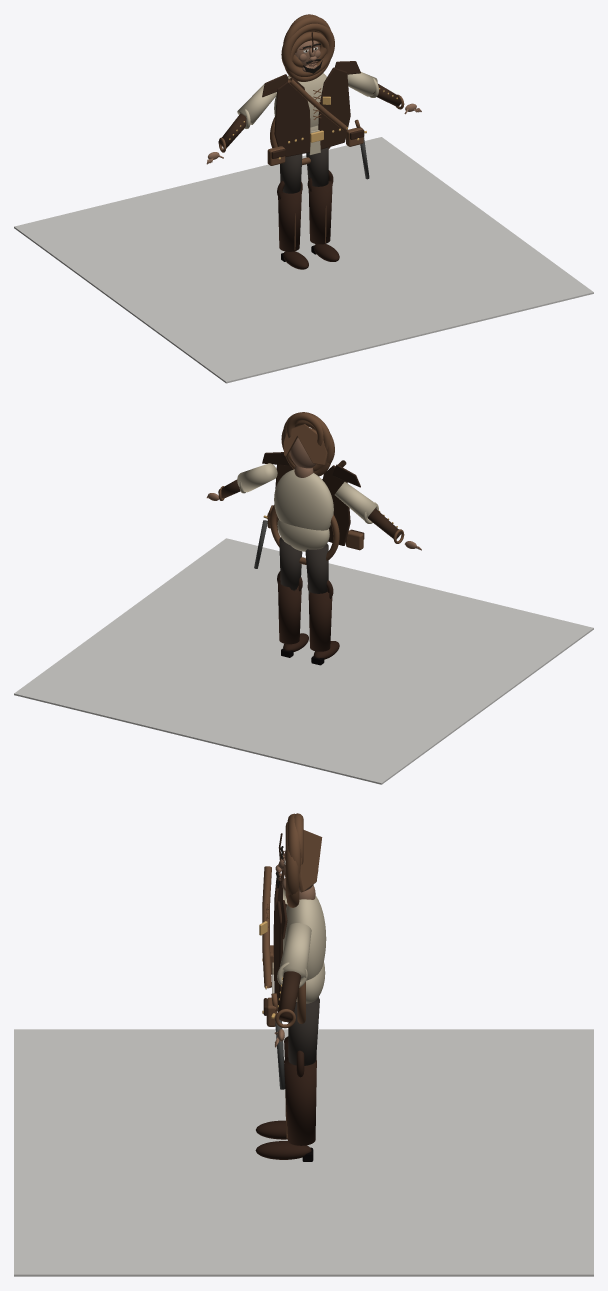
Rendered from nego_thief_realistic.glb.
The picture shows the model from 3 angles, top to bottom: view 1: azimuth 30°, elevation 25°; view 2: azimuth 150°, elevation 25°; view 3: azimuth 270°, elevation 25°; orthographic projection. The views are drawn at different scales.
Visible parts, largest first — view 1: matte studio floor, left dark leather vest panel, right dark leather vest panel, left tall boot shaft, right tall boot shaft, hood folded arch 2, left upper black trouser, right upper black trouser, left upper linen sleeve, hood folded arch 3, ribcage under tunic, hood folded arch 1 (+1 smaller); view 2: matte studio floor, ribcage under tunic, left tall boot shaft, right tall boot shaft, belly under tunic, left dark leather vest panel, deep hood back cloth, left upper black trouser, right upper black trouser, left upper linen sleeve, right upper linen sleeve, wide waist belt (+1 smaller); view 3: matte studio floor, right tall boot shaft, ribcage under tunic, right upper black trouser, right upper linen sleeve, deep hood back cloth, diagonal chest strap, right boot foot, right dark leather bracer, right dark leather vest panel, hood folded arch 2.
Part boxes in pixels (<box>): matte studio floor: <box>14,137,593,383</box>; left dark leather vest panel: <box>274,77,310,157</box>; right dark leather vest panel: <box>318,67,350,149</box>; left tall boot shaft: <box>278,188,301,251</box>; right tall boot shaft: <box>308,181,332,244</box>; hood folded arch 2: <box>281,23,334,76</box>; left upper black trouser: <box>280,154,302,193</box>; right upper black trouser: <box>306,147,328,186</box>; left upper linen sleeve: <box>237,84,276,124</box>; hood folded arch 3: <box>284,31,330,81</box>; ribcage under tunic: <box>274,73,326,127</box>; hood folded arch 1: <box>283,16,330,67</box>; matte studio floor: <box>14,538,593,784</box>; ribcage under tunic: <box>274,469,333,530</box>; left tall boot shaft: <box>308,592,332,651</box>; right tall boot shaft: <box>278,580,301,644</box>; belly under tunic: <box>277,519,329,551</box>; left dark leather vest panel: <box>322,465,350,545</box>; deep hood back cloth: <box>283,424,327,465</box>; left upper black trouser: <box>305,543,328,594</box>; right upper black trouser: <box>279,537,302,590</box>; left upper linen sleeve: <box>334,482,377,520</box>; right upper linen sleeve: <box>237,463,277,492</box>; wide waist belt: <box>270,505,339,564</box>; matte studio floor: <box>14,1029,593,1276</box>; right tall boot shaft: <box>284,1057,316,1145</box>; ribcage under tunic: <box>283,895,326,980</box>; right upper black trouser: <box>288,997,319,1065</box>; right upper linen sleeve: <box>279,923,311,978</box>; deep hood back cloth: <box>299,830,322,892</box>; diagonal chest strap: <box>262,866,271,988</box>; right boot foot: <box>255,1141,311,1159</box>; right dark leather bracer: <box>279,971,300,1022</box>; right dark leather vest panel: <box>273,901,282,1011</box>; hood folded arch 2: <box>285,822,298,898</box>.
Bounding box in the file's own units: 3 × 1.93 × 3.
